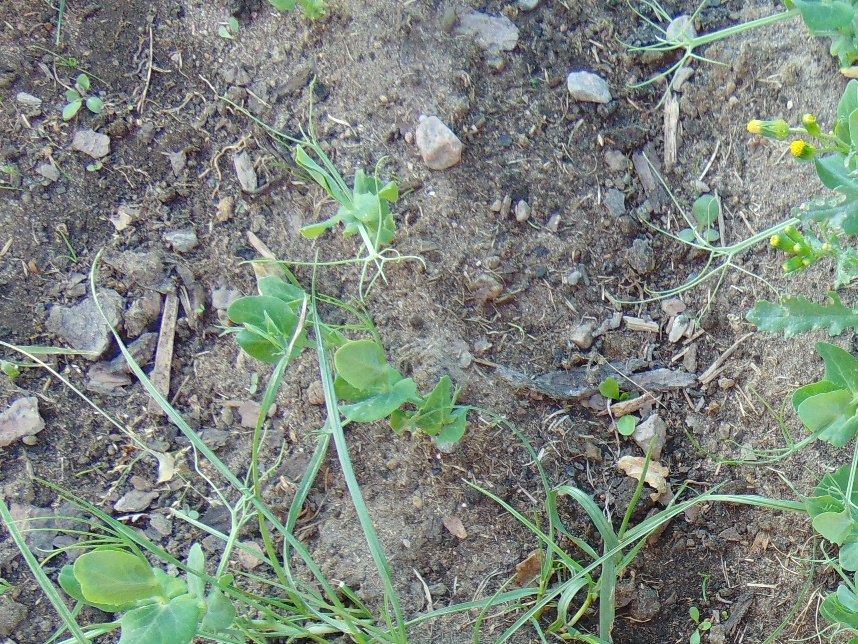crop: (211, 271, 473, 445), (747, 344, 858, 644), (35, 498, 255, 644), (653, 147, 858, 288), (273, 113, 415, 281), (653, 1, 858, 72), (808, 82, 858, 244)
weed: (735, 102, 842, 286), (742, 289, 858, 339), (598, 376, 641, 437), (62, 72, 103, 119)
